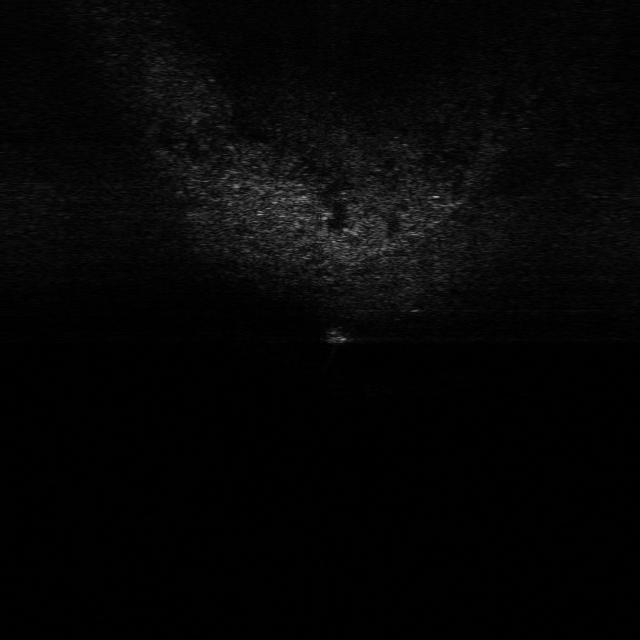cube: (319, 325, 357, 346)
